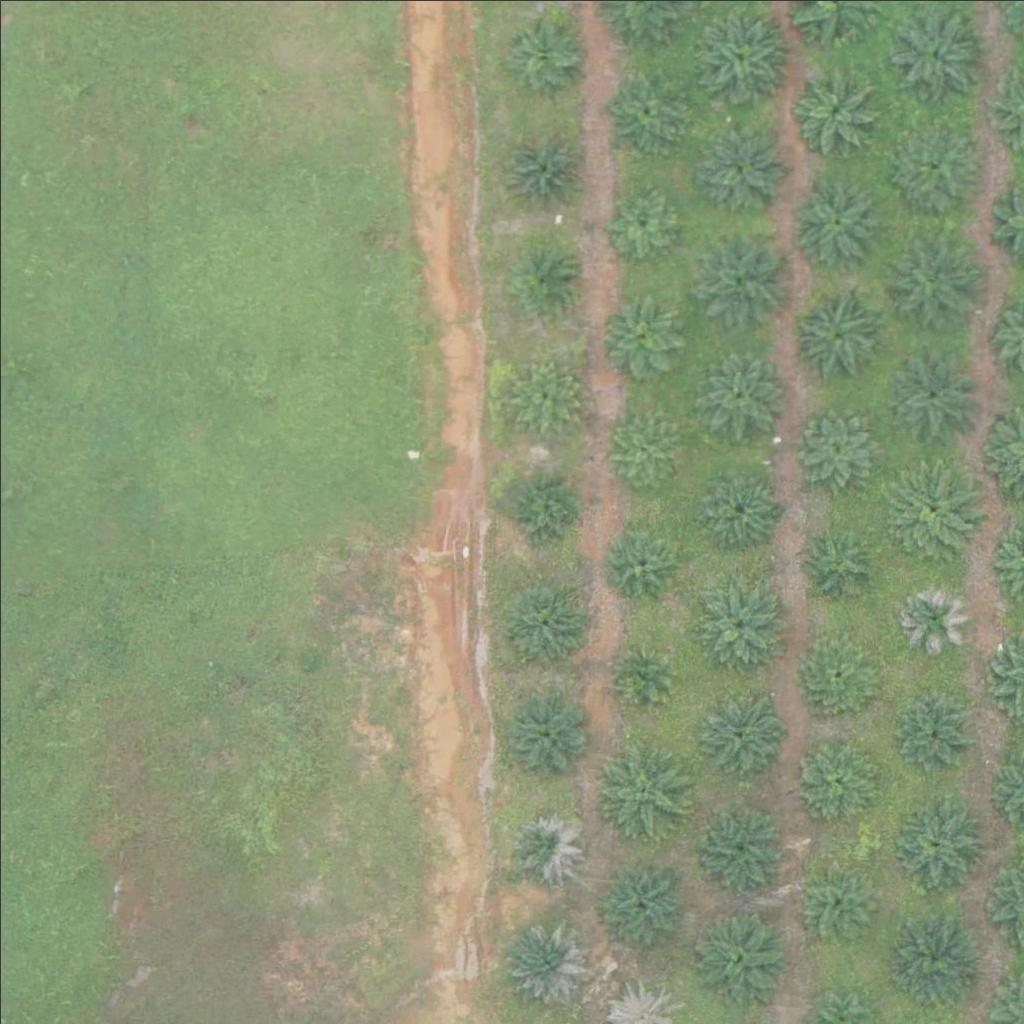Kelapa_Sawit: (877, 460, 977, 561), (694, 226, 794, 327), (789, 395, 889, 496), (789, 285, 889, 386), (883, 345, 983, 446), (687, 906, 787, 1006), (588, 852, 688, 952), (588, 738, 688, 838), (691, 7, 791, 107), (880, 230, 980, 330), (885, 3, 985, 103), (793, 627, 881, 716), (691, 460, 779, 549), (792, 521, 880, 609), (501, 3, 589, 91), (889, 909, 977, 997), (892, 796, 980, 884), (790, 730, 878, 818), (504, 916, 592, 1004), (502, 686, 590, 774), (501, 575, 589, 663), (598, 66, 686, 154), (696, 347, 784, 435), (697, 122, 785, 210), (601, 294, 688, 382), (498, 122, 585, 210), (695, 801, 782, 889), (696, 685, 783, 773), (695, 575, 782, 663), (793, 174, 880, 262), (790, 63, 877, 151), (890, 114, 977, 202), (505, 807, 580, 883), (800, 859, 875, 934), (600, 523, 675, 598), (602, 181, 677, 256), (510, 360, 585, 435), (503, 468, 578, 543), (896, 691, 971, 766), (894, 577, 969, 652), (608, 412, 683, 487), (517, 249, 580, 312), (610, 640, 673, 703)
